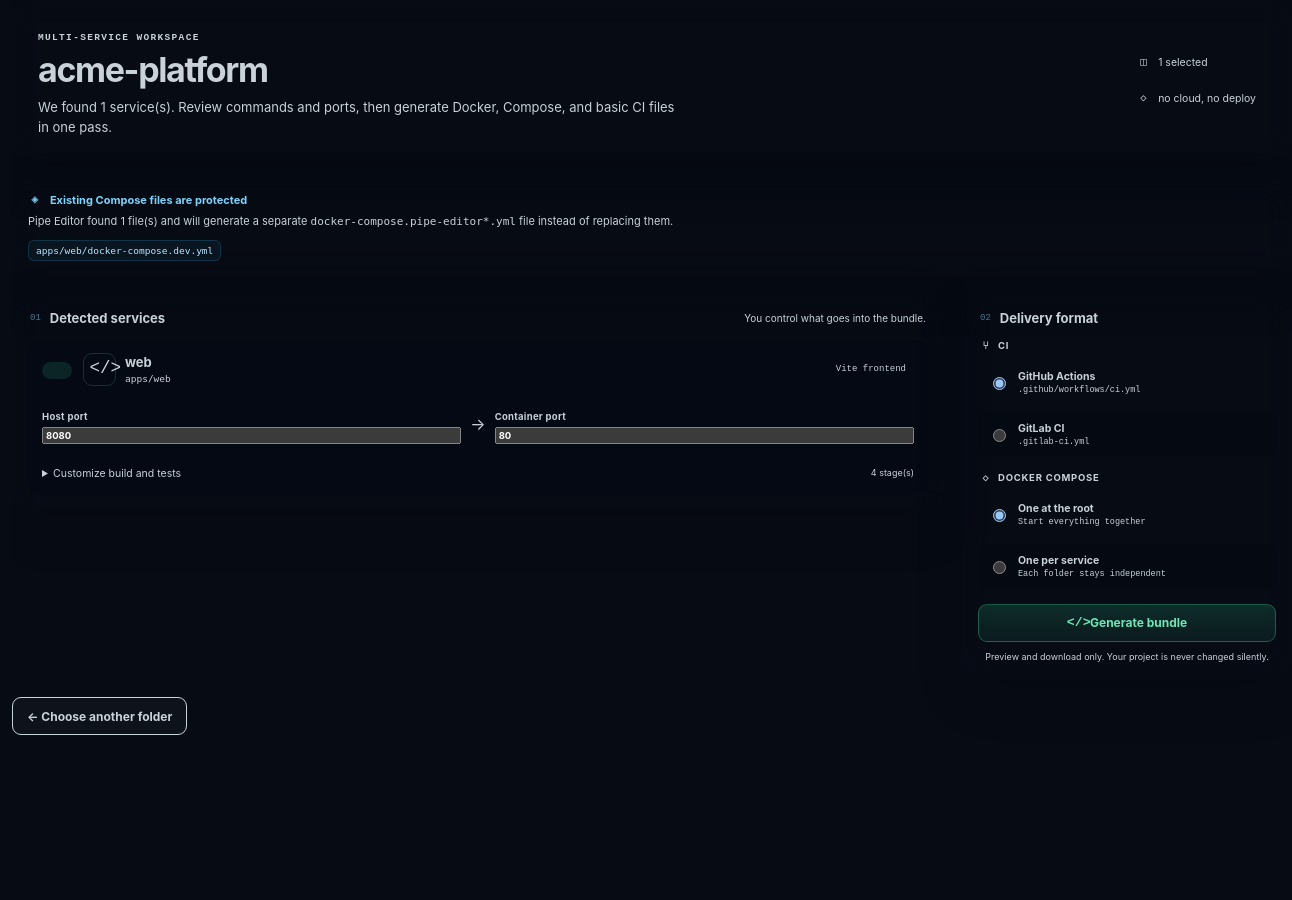
Scenario: T-WORKSPACE-104 (UX-04) — port fields › refuses  on blur and restores the last good value
Clear the field named "web host port" at [252, 435], box [42, 427, 461, 444]
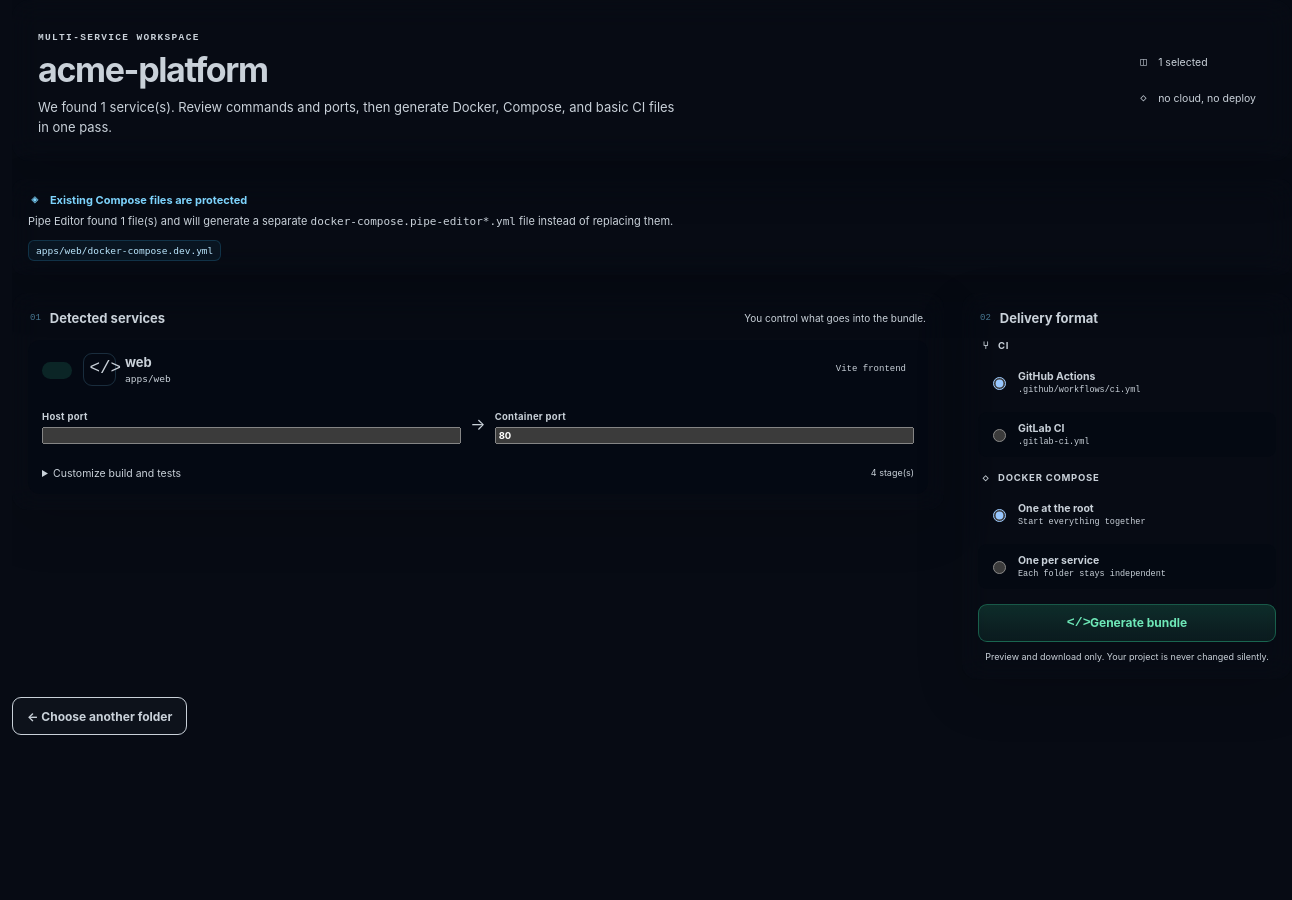
Leave the field named "web host port", box [42, 427, 461, 444]
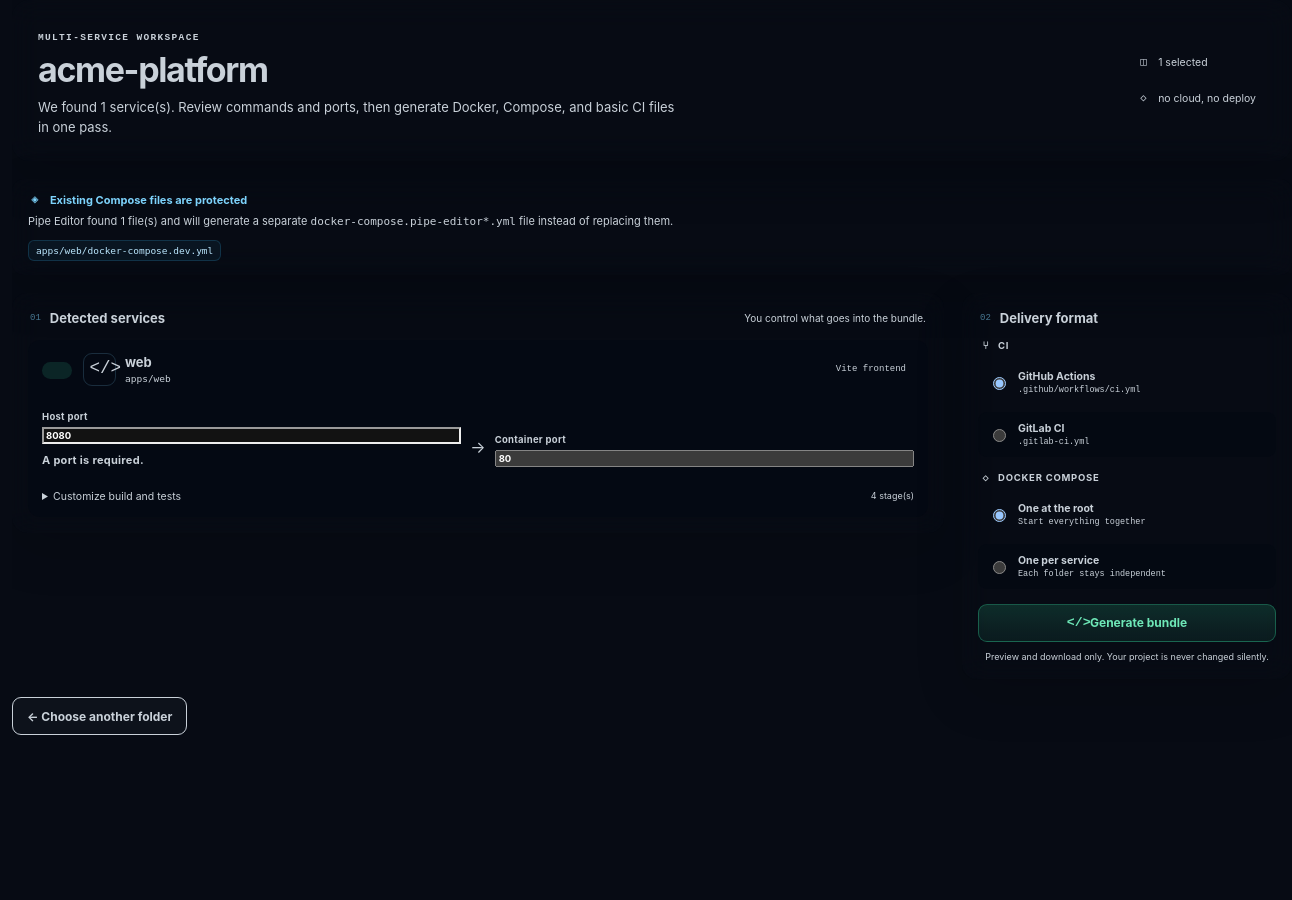
Result: the message "A port is required." is shown at [42, 453, 144, 467]
Result: the field named "web host port" holds "8080" at [42, 427, 461, 444]
